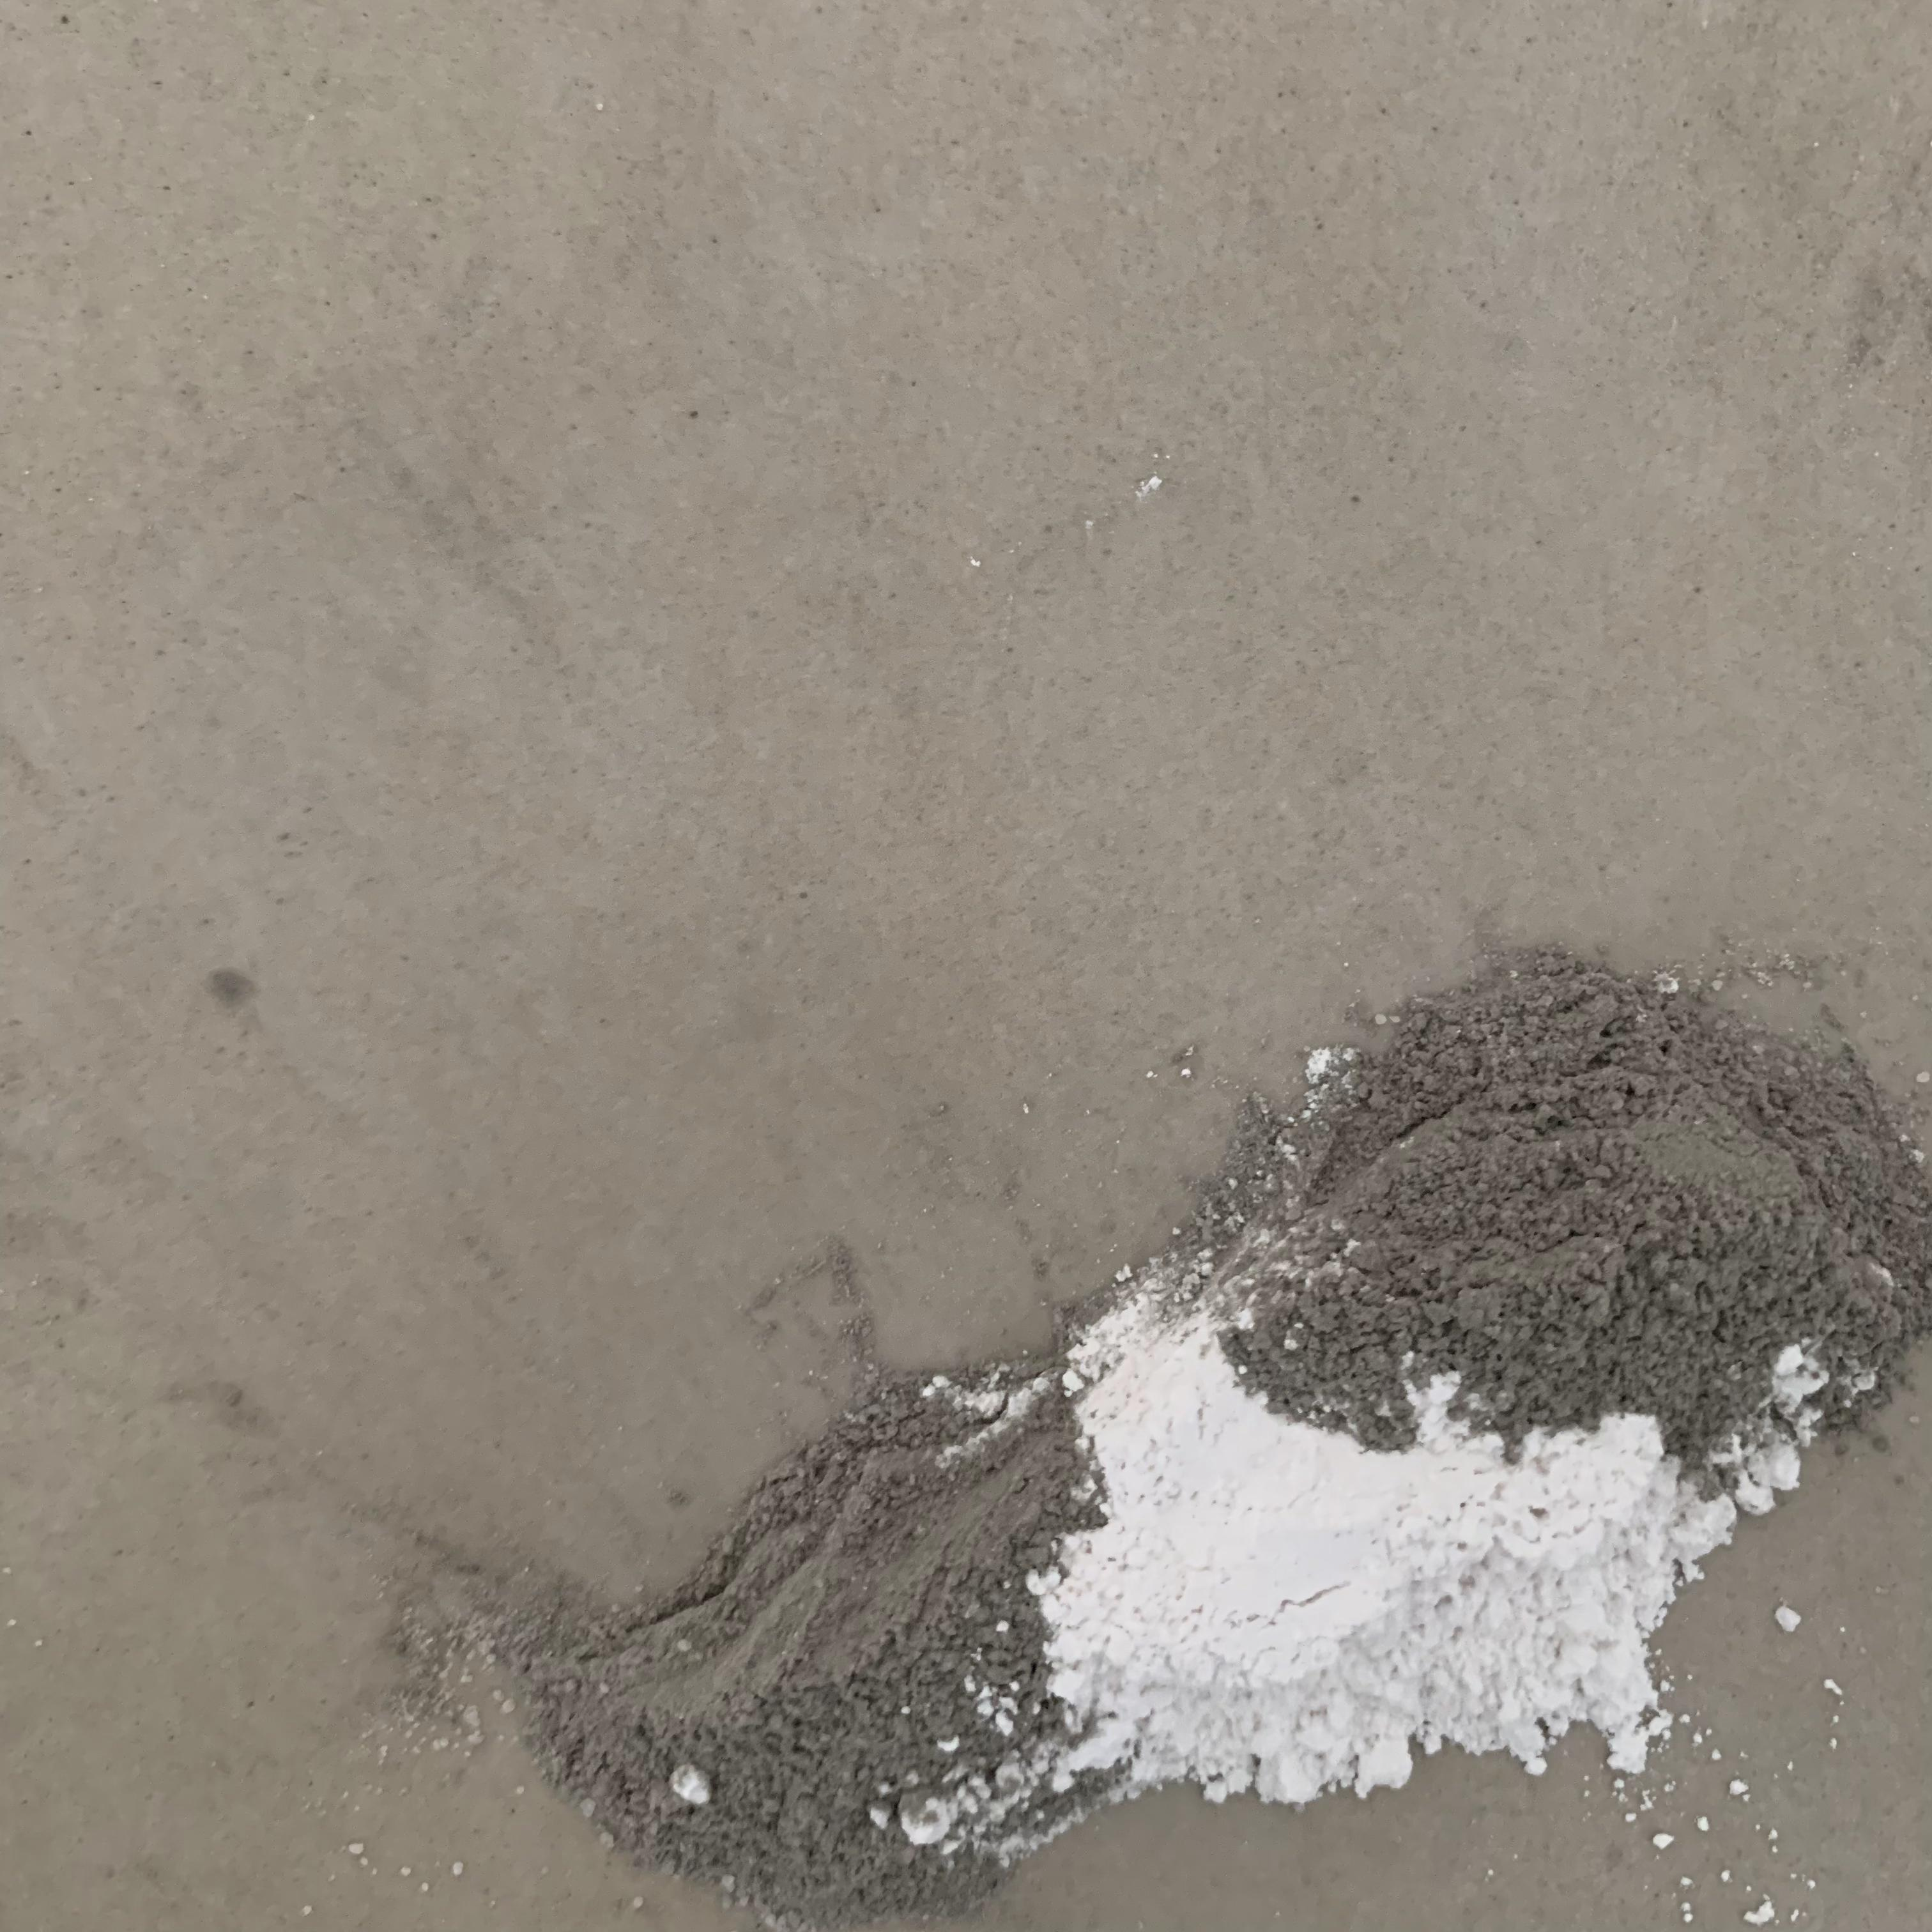ash pile: (364, 947, 1932, 1932)
